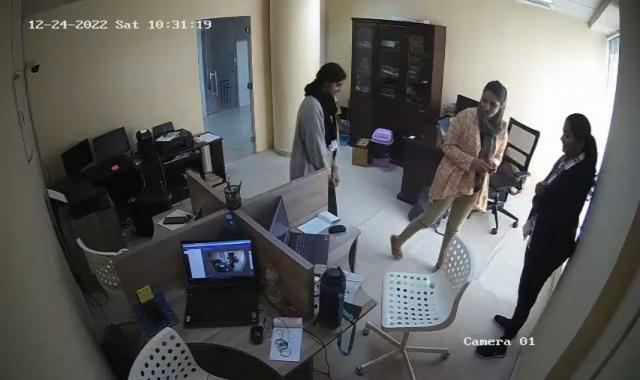no_hairnet: (558, 109, 592, 158), (312, 58, 347, 97), (480, 79, 507, 119)
